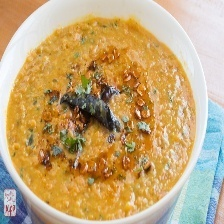dal: (5, 17, 195, 221)
